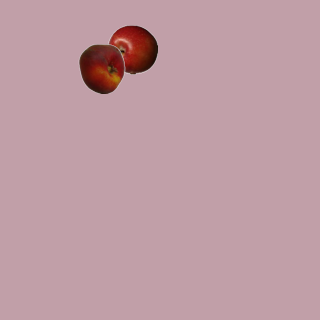Apple Braeburn: (107, 24, 157, 74)
Nectarine Flat: (76, 43, 126, 93)
